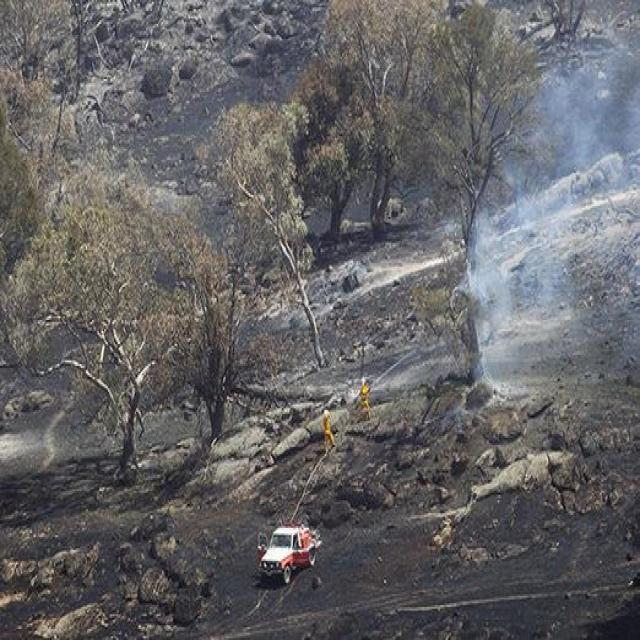other: (272, 518, 315, 576), (344, 364, 378, 424), (316, 399, 344, 454)
smoke: (474, 257, 499, 322)
